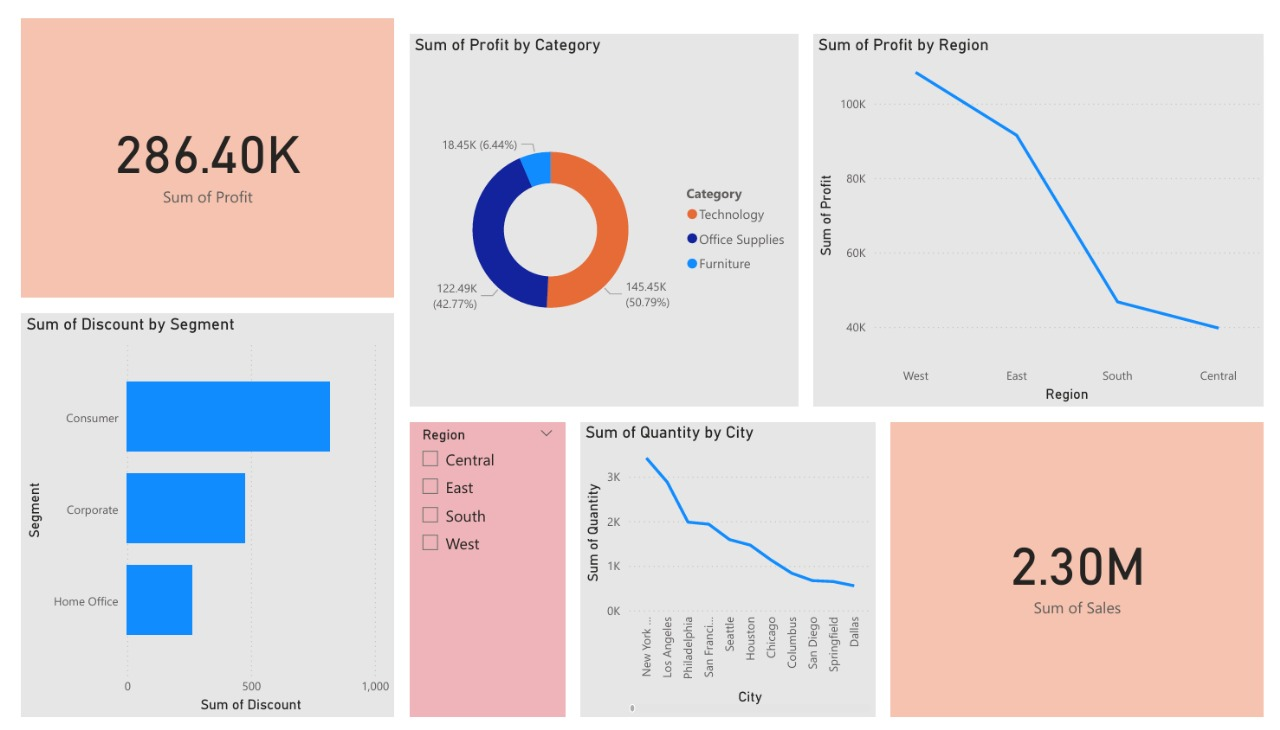

The dashboard page shown, as its layout file describes it:
{"tool":"powerbi","page":{"name":"Page 1","canvas":[1280,720],"ordinal":0},"visuals":[{"type":"card","fields":{"Values":["Sum(Sample - Superstore.Profit)"]},"box":[0,0,384,288],"z":0},{"type":"card","fields":{"Values":["Sum(Sample - Superstore.Sales)"]},"box":[896,416,384,304],"z":1},{"type":"lineChart","fields":{"Y":["Sum(Sample - Superstore.Profit)"],"Category":["Sample - Superstore.Region"]},"box":[816,16,464,384],"z":2},{"type":"barChart","fields":{"Y":["Sum(Sample - Superstore.Discount)"],"Category":["Sample - Superstore.Segment"]},"box":[0,304,384,416],"z":3},{"type":"donutChart","fields":{"Category":["Sample - Superstore.Category"],"Y":["Sum(Sample - Superstore.Profit)"]},"box":[400,16,400,384],"z":4},{"type":"slicer","fields":{"Values":["Sample - Superstore.Region"]},"box":[400,416,160,304],"z":5},{"type":"lineChart","fields":{"Category":["Sample - Superstore.City"],"Y":["Sum(Sample - Superstore.Quantity)"]},"box":[576,416,304,304],"z":6}]}

Visuals, with their boxes in screenshot pixels (x1, y1, x2, y2), scaled from the page's 1280x720 canvas onto the 1280x730 screenshot:
card - Sum(Sample - Superstore.Profit): BBox(0, 0, 384, 292)
card - Sum(Sample - Superstore.Sales): BBox(896, 422, 1279, 729)
lineChart - Sum(Sample - Superstore.Profit) x Sample - Superstore.Region: BBox(816, 16, 1279, 406)
barChart - Sum(Sample - Superstore.Discount) x Sample - Superstore.Segment: BBox(0, 308, 384, 729)
donutChart - Sample - Superstore.Category x Sum(Sample - Superstore.Profit): BBox(400, 16, 800, 406)
slicer - Sample - Superstore.Region: BBox(400, 422, 560, 729)
lineChart - Sample - Superstore.City x Sum(Sample - Superstore.Quantity): BBox(576, 422, 880, 729)
